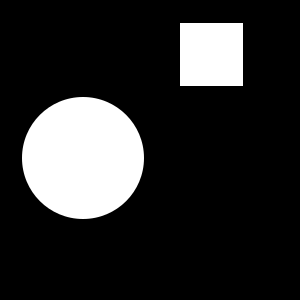circle: (180, 23, 243, 86)
rectangle: (22, 97, 144, 219)
